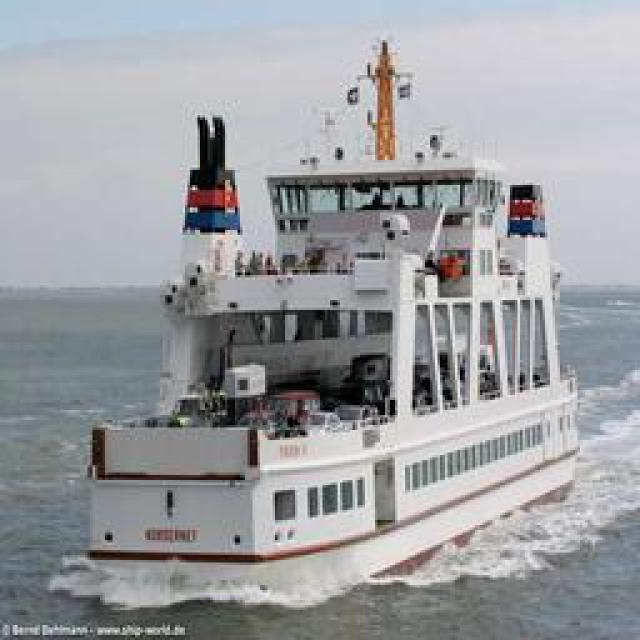Ship: (74, 73, 577, 588)
